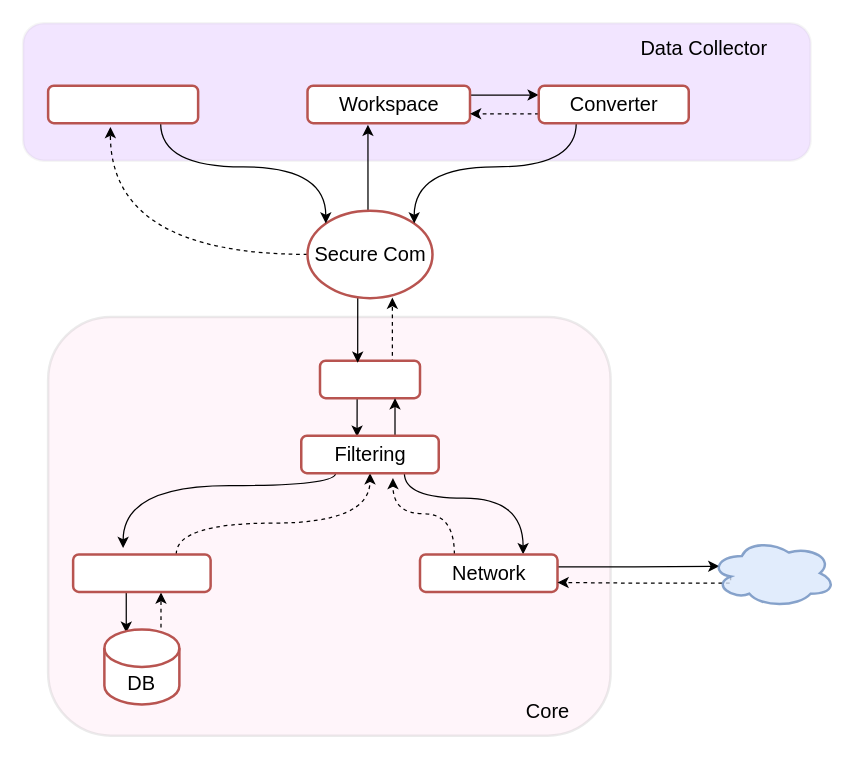
Some shapes in this 858 by 758 pixel diagram are drawn without their labels. Each missing label, with the centre of its shape:
"Requester" belongs at pixel 122 104.
"Scheduler" belongs at pixel 141 572.
"Uncap" belongs at pixel 369 379.
